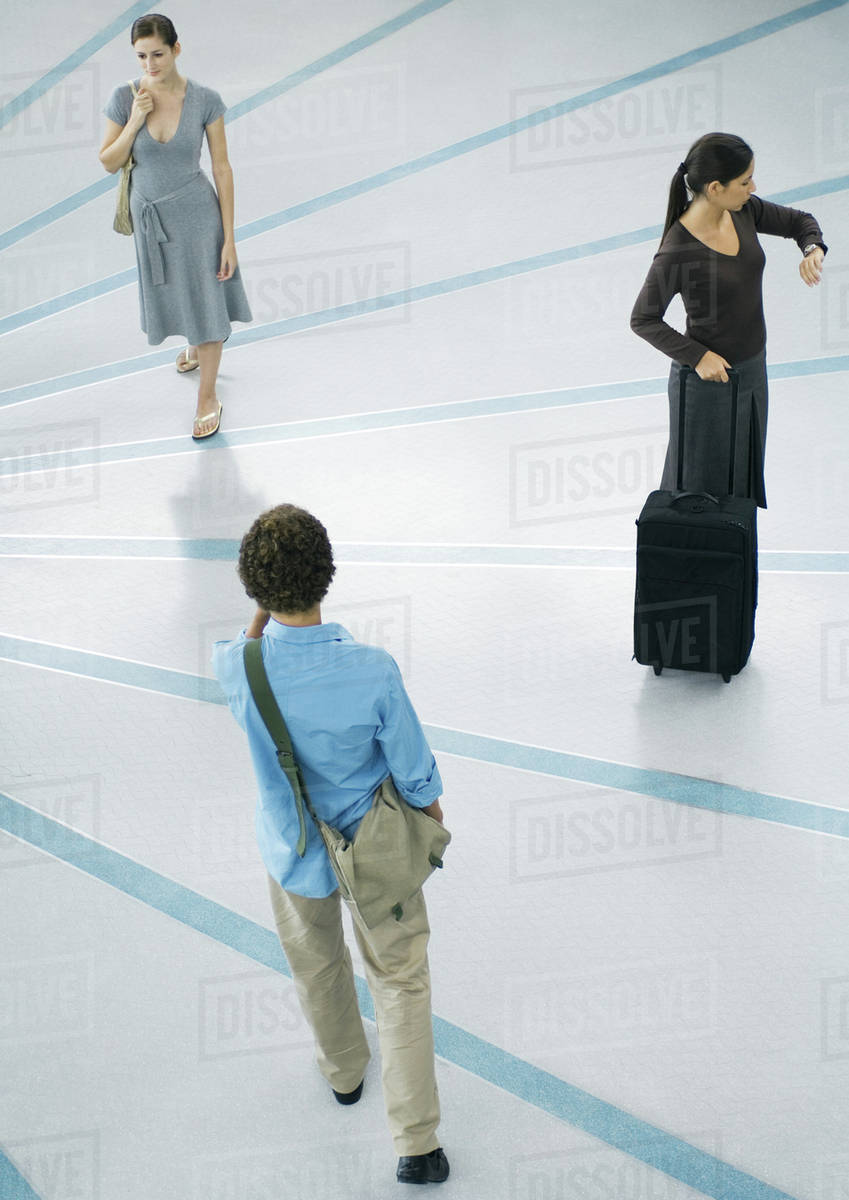Person: (203, 500, 468, 1200), (621, 121, 834, 530), (98, 14, 252, 455)
